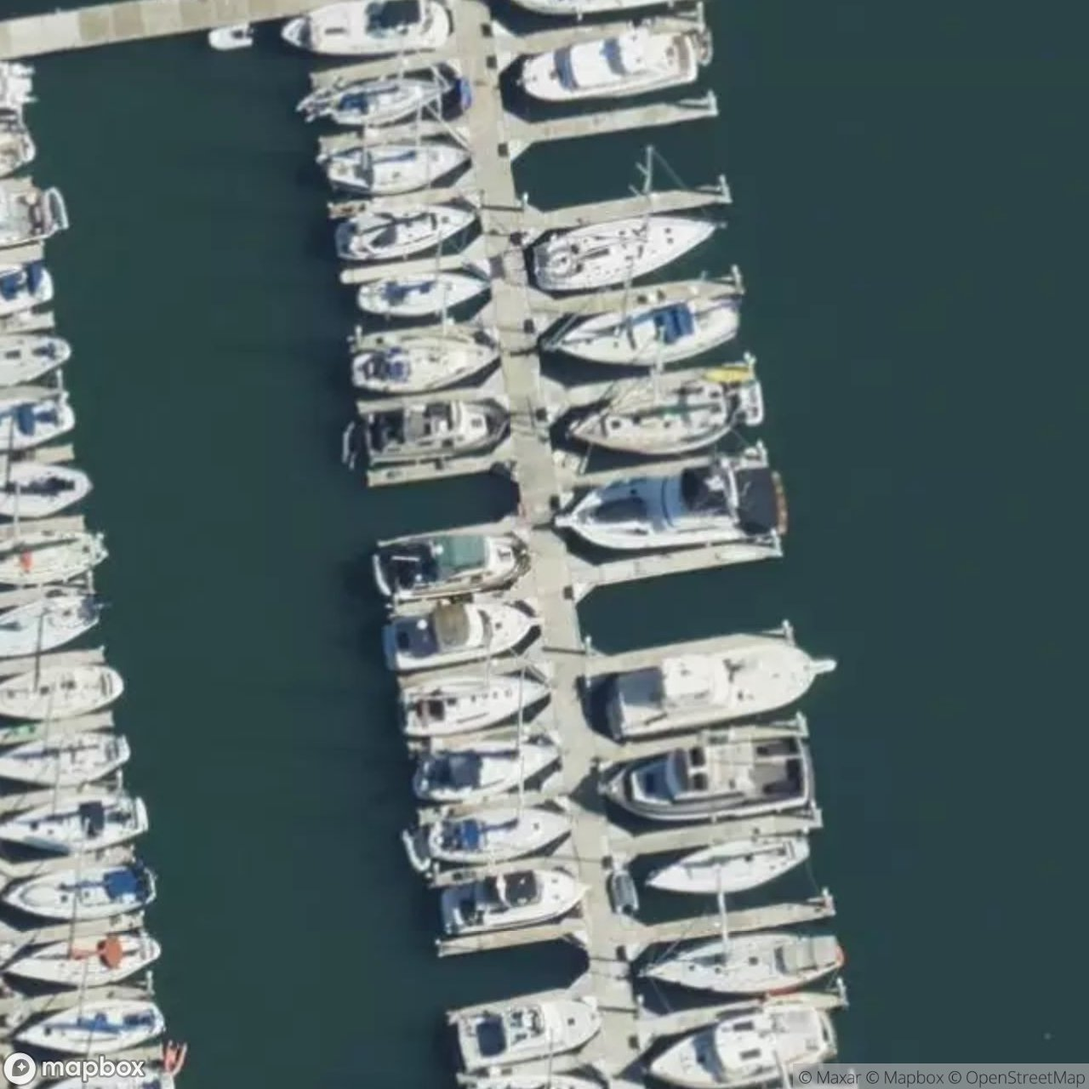Ship: (249, 8, 905, 1087)
